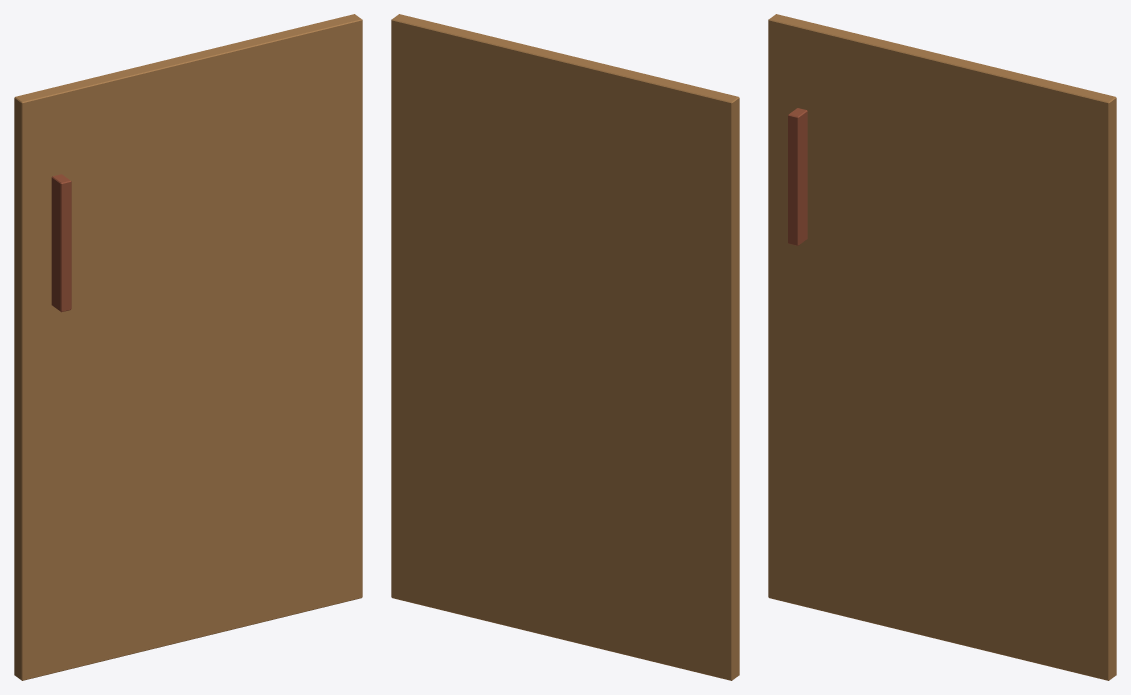
The model's file is solidwood_shelving_base_cabinet_right_door.glb.
3 renders of one model, left to right at view 1: azimuth 30°, elevation 25°; view 2: azimuth 150°, elevation 25°; view 3: azimuth 330°, elevation 25°, orthographic.
Visible parts, largest first — view 1: solidwood_shelving_base_cabinet_right_door.001; view 2: solidwood_shelving_base_cabinet_right_door.001; view 3: solidwood_shelving_base_cabinet_right_door.001.
Part boxes in pixels (box(x1,y1,x2,y2)): solidwood_shelving_base_cabinet_right_door.001: box(14, 14, 362, 680); solidwood_shelving_base_cabinet_right_door.001: box(391, 14, 739, 680); solidwood_shelving_base_cabinet_right_door.001: box(768, 14, 1116, 680).
Size of the model in its own units: 0.4415 by 0.716 by 0.04.
